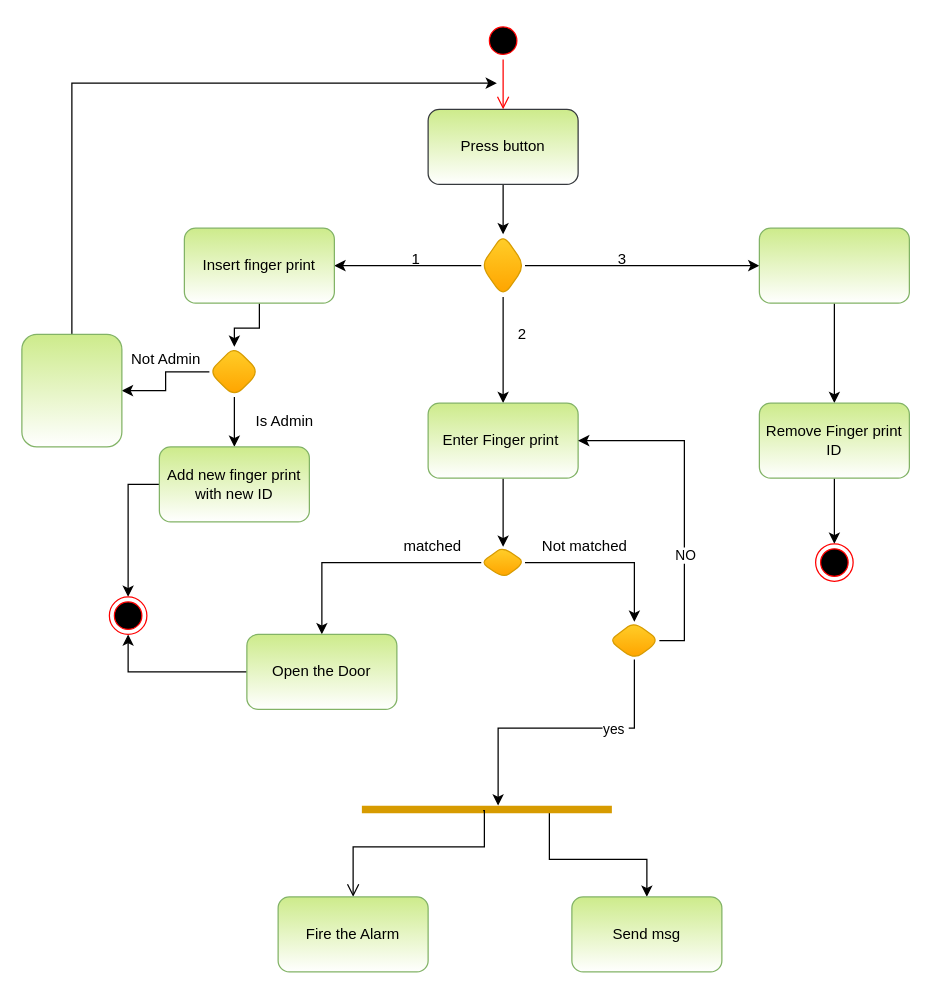
Image size: 931x994. Some labels were removed from this diagram. The centre of each missing label's shape, as x and y in pixels:
Delete finger print: (833,265)
DISP ( the new added user should be added with the Admin): (71,390)
n>3: (633,640)
